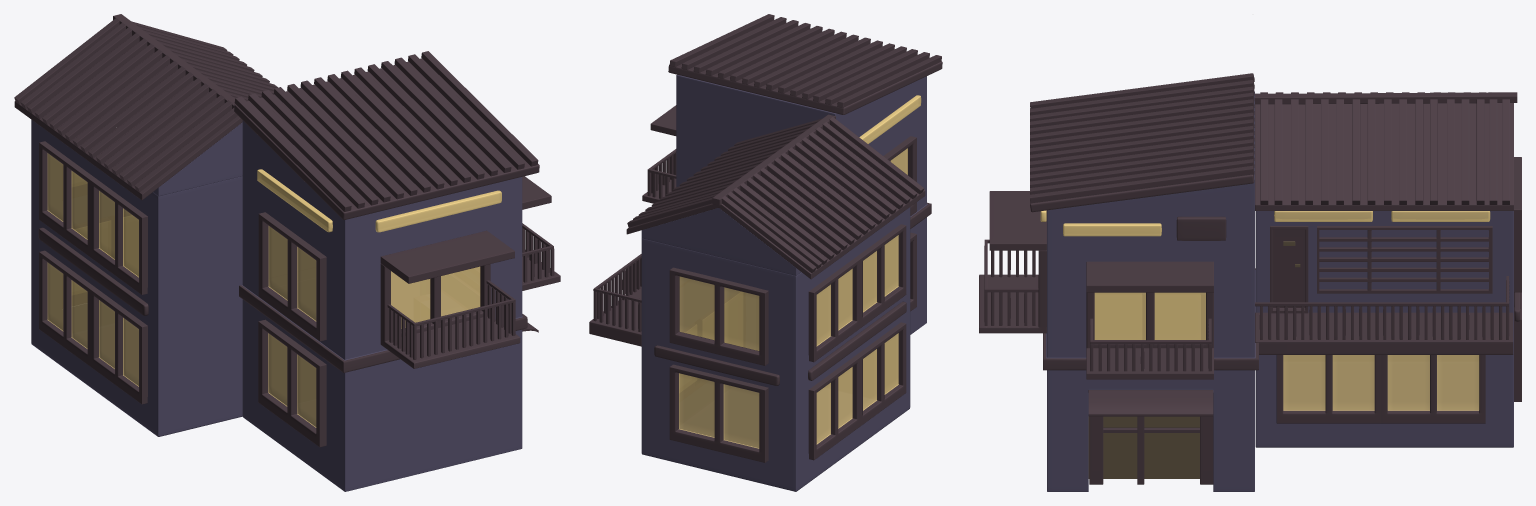
Rendered from House2.fbx.
3 views of the same model, side by side, from view 1: azimuth 30°, elevation 25°; view 2: azimuth 150°, elevation 25°; view 3: azimuth 270°, elevation 25° (orthographic). The views are drawn at different scales.
Visible parts, largest first — view 1: polySurface5; view 2: polySurface5; view 3: polySurface5.
Part boxes in pixels (x1=…): polySurface5: x1=14, y1=14, x2=560, y2=491; polySurface5: x1=589, y1=14, x2=942, y2=491; polySurface5: x1=979, y1=73, x2=1521, y2=491.
Bounding box in the file's own units: 358 × 304 × 458.
